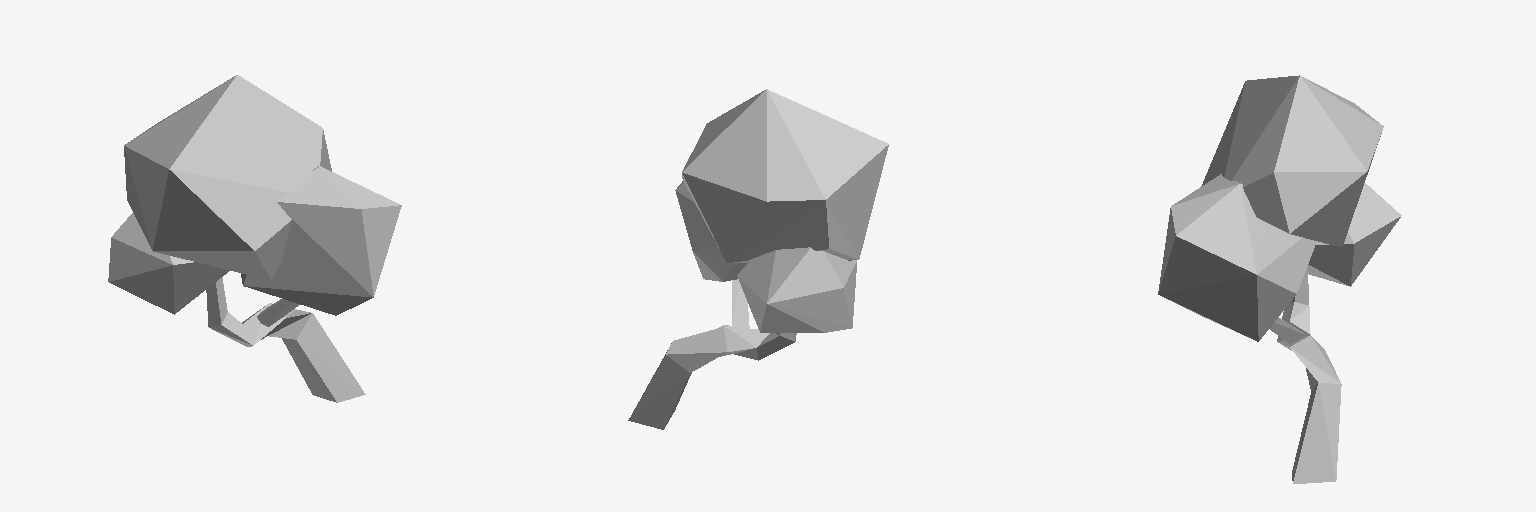
File: Tree by Rose.obj
3 renders of one model, left to right at view 1: azimuth 30°, elevation 25°; view 2: azimuth 150°, elevation 25°; view 3: azimuth 270°, elevation 25°, orthographic.
Parts seen in each view (by area): view 1: group[number redacted], group[number redacted], group[number redacted], group[number redacted], group[number redacted]; view 2: group[number redacted], group[number redacted], group[number redacted], group[number redacted], group[number redacted]; view 3: group[number redacted], group[number redacted], group[number redacted], group[number redacted].
Boxes of the visible parts, box(x1,y1,x2,y2) form: group[number redacted]: box(124, 75, 331, 280); group[number redacted]: box(241, 166, 401, 315); group[number redacted]: box(206, 278, 365, 402); group[number redacted]: box(108, 213, 229, 314); group[number redacted]: box(257, 299, 299, 326); group[number redacted]: box(682, 89, 888, 262); group[number redacted]: box(737, 247, 856, 332); group[number redacted]: box(628, 325, 796, 429); group[number redacted]: box(675, 181, 747, 281); group[number redacted]: box(732, 279, 749, 327); group[number redacted]: box(1201, 75, 1383, 247); group[number redacted]: box(1158, 174, 1316, 341); group[number redacted]: box(1277, 267, 1341, 483); group[number redacted]: box(1307, 183, 1401, 286).
Bounding box in the file's own units: 0.8828 × 1.28 × 0.8027.